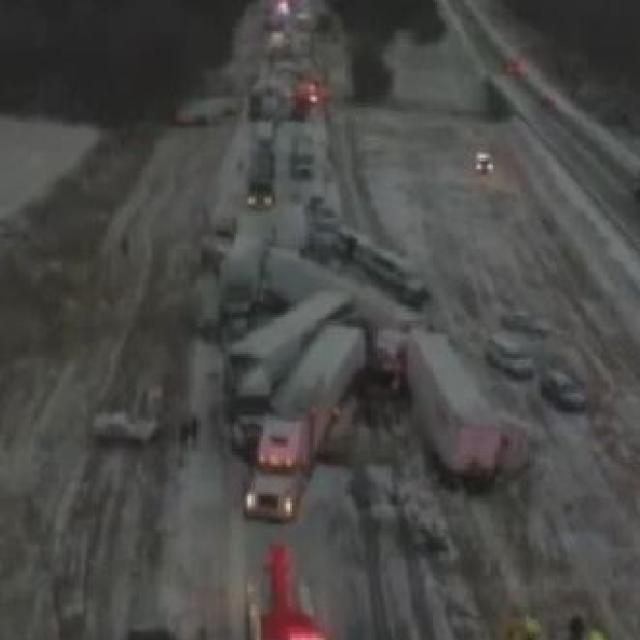traffic_incident: (203, 220, 514, 513)
